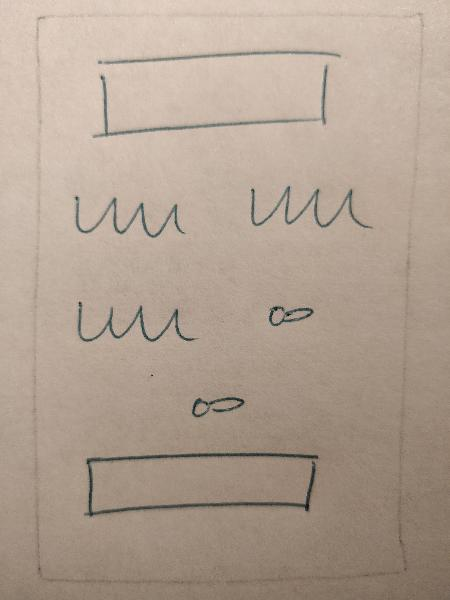switch: (253, 290, 331, 337), (183, 380, 250, 425)
text: (239, 171, 384, 235), (64, 289, 203, 352), (64, 180, 195, 246)
text_input: (77, 41, 351, 146), (76, 444, 329, 522)
